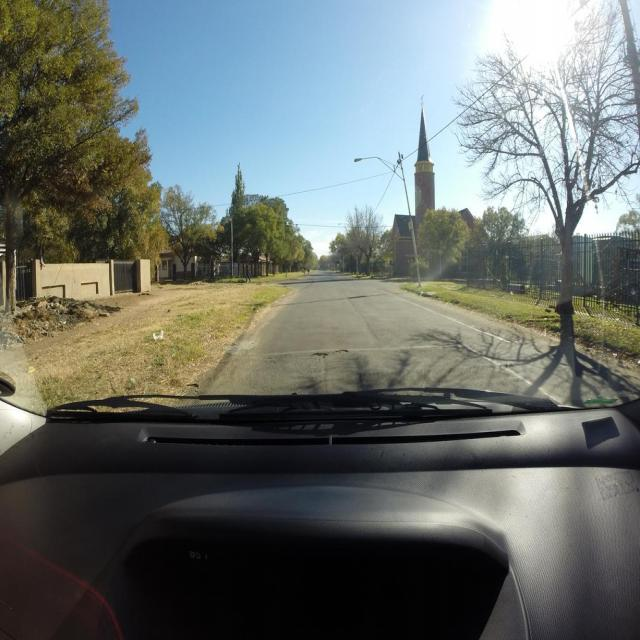Pothole: (311, 354, 330, 358), (335, 349, 348, 354)
